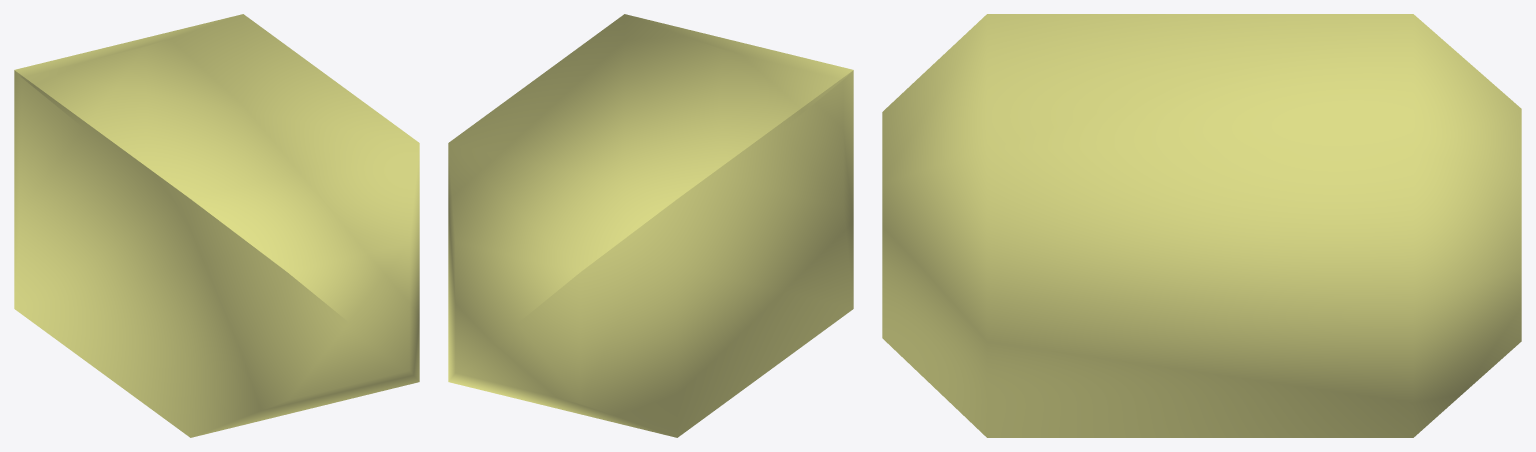
File: goldGem.fbx
The picture shows the model from 3 angles, left to right: view 1: azimuth 30°, elevation 25°; view 2: azimuth 150°, elevation 25°; view 3: azimuth 270°, elevation 25°; orthographic projection. The views are drawn at different scales.
Parts seen in each view (by area): view 1: mesh00; view 2: mesh00; view 3: mesh00.
Boxes of the visible parts, left/top/right/bottom form: mesh00: left=14, top=14, right=419, bottom=437; mesh00: left=448, top=14, right=853, bottom=437; mesh00: left=882, top=14, right=1521, bottom=437.
Size of the model in its own units: 14.93 by 14.87 by 29.84.
